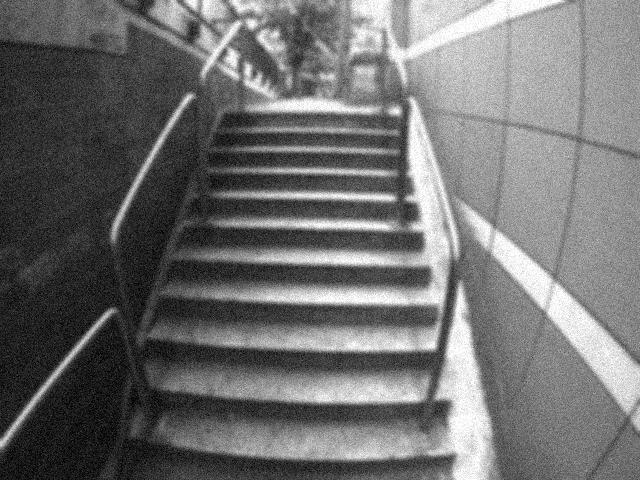Escaleras: (140, 106, 455, 479)
